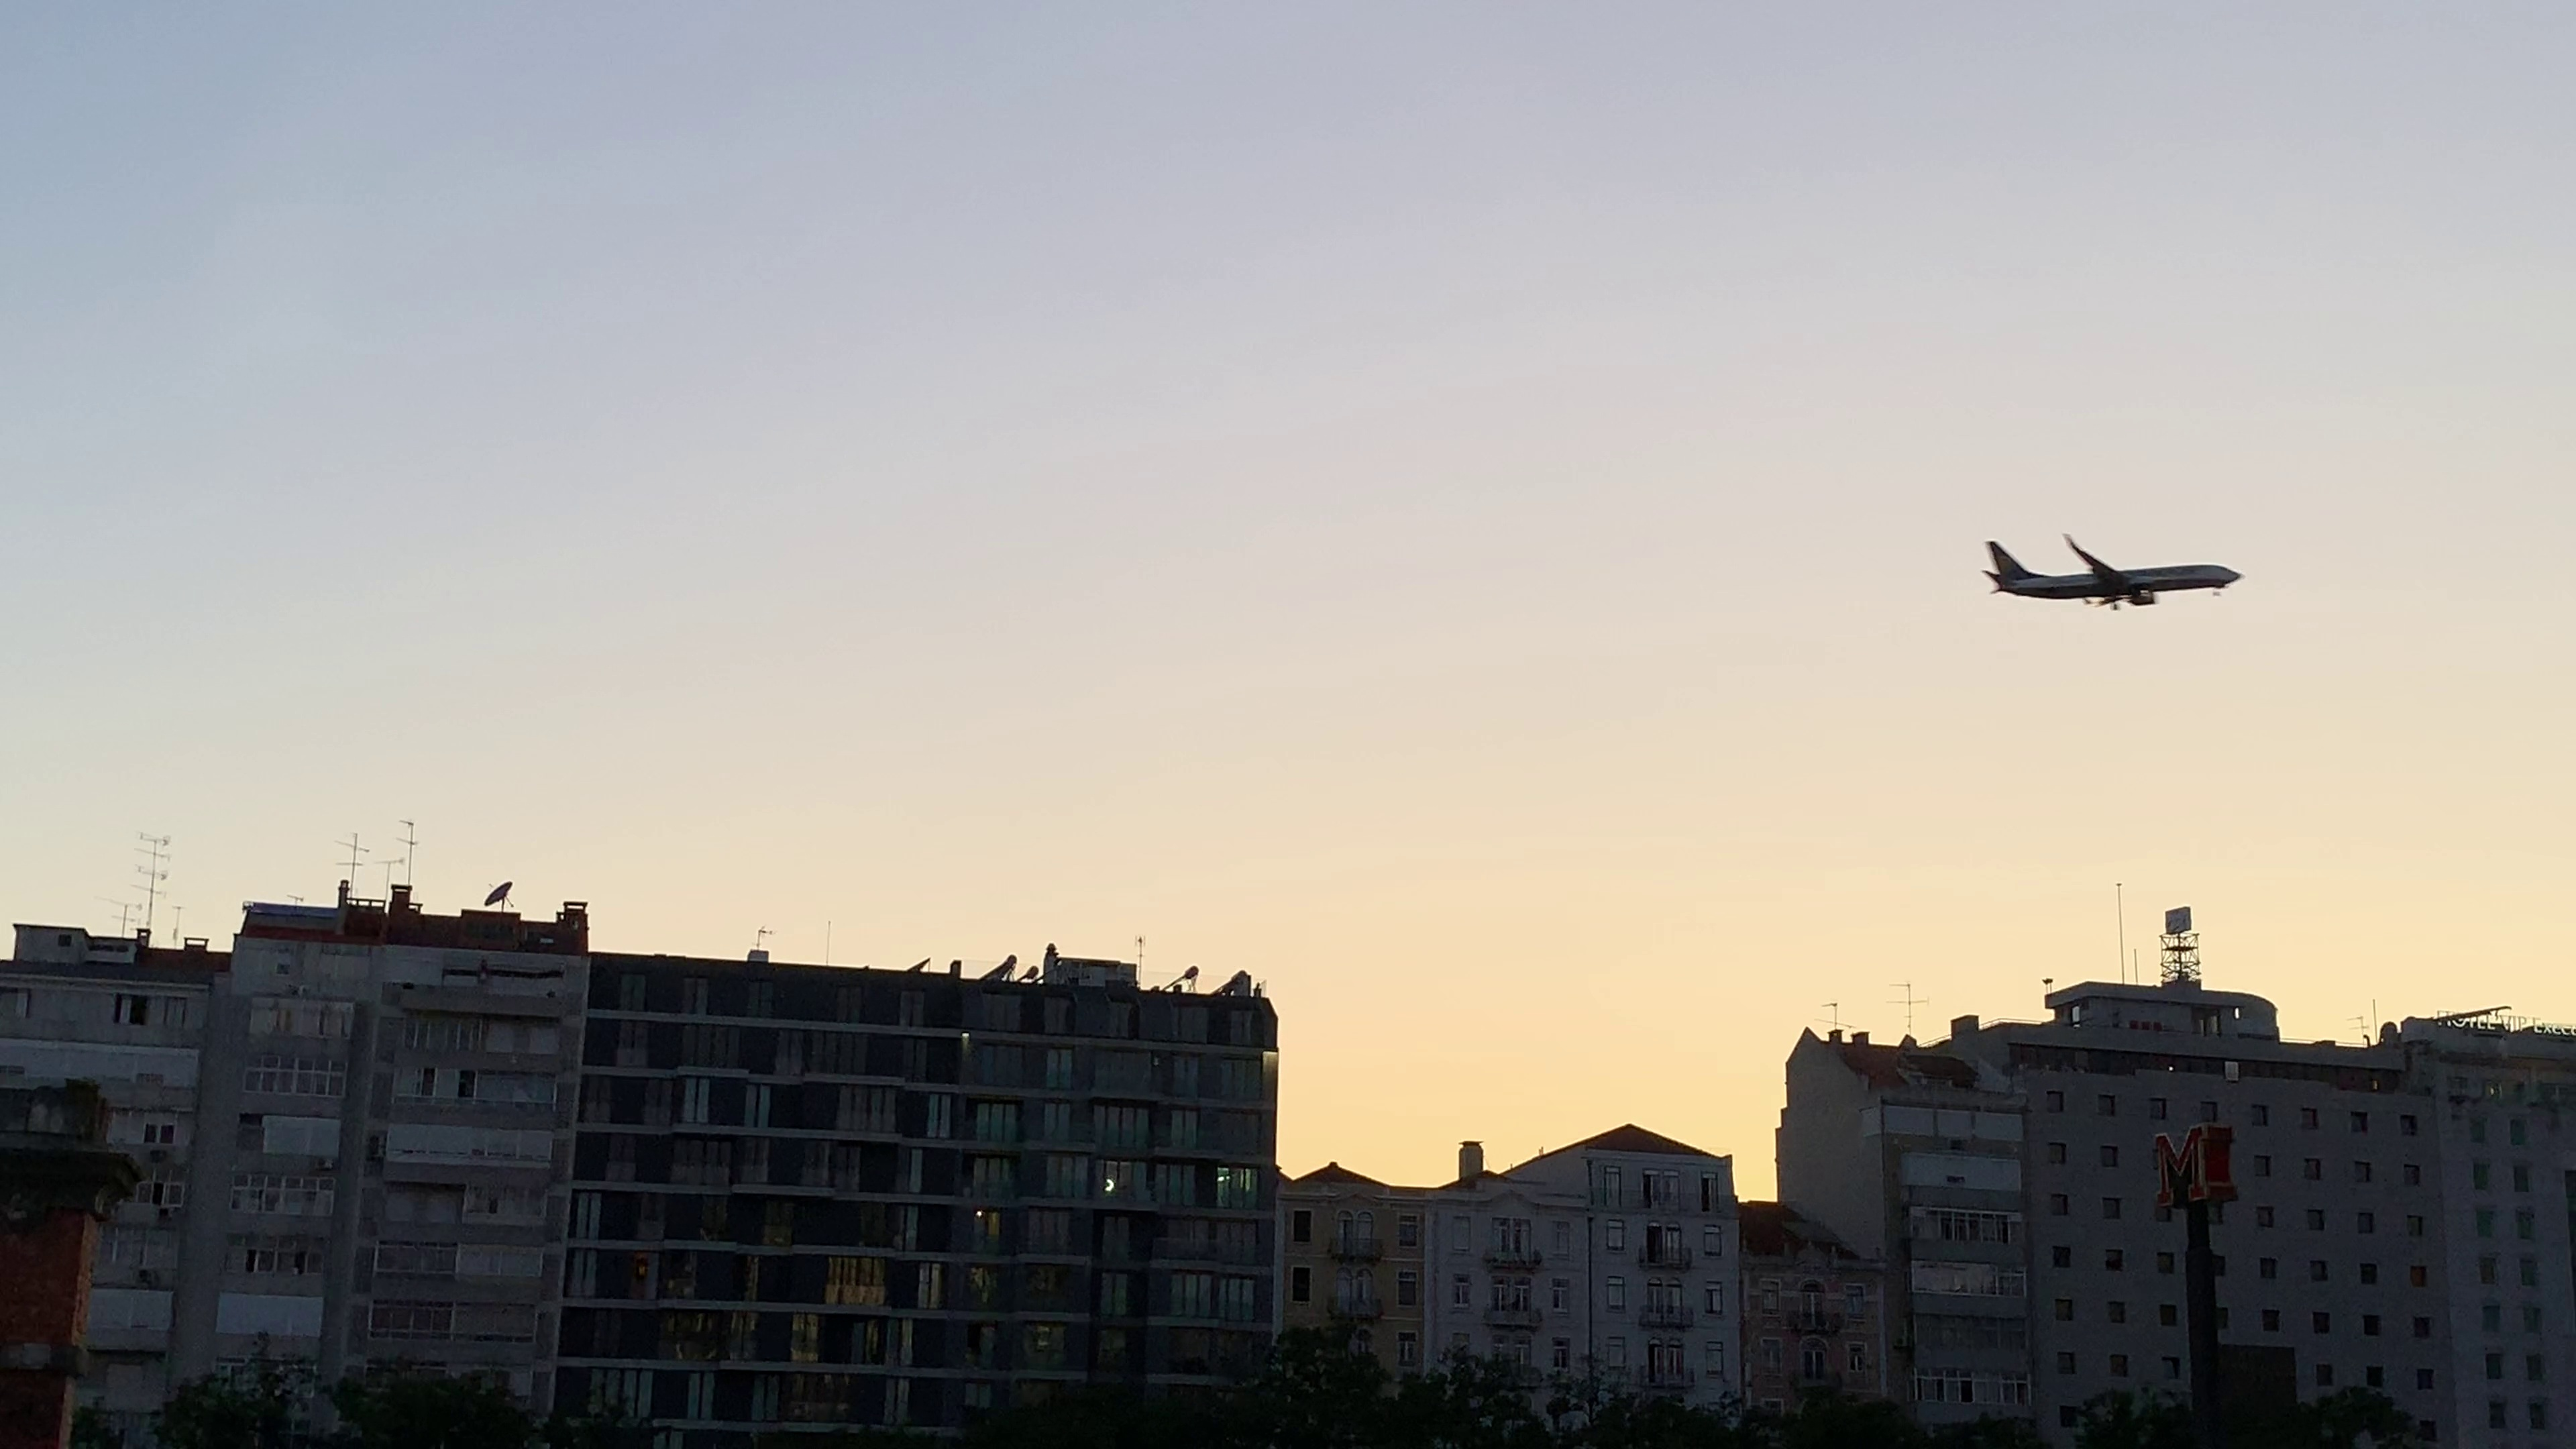plane: (1983, 536, 2240, 610)
